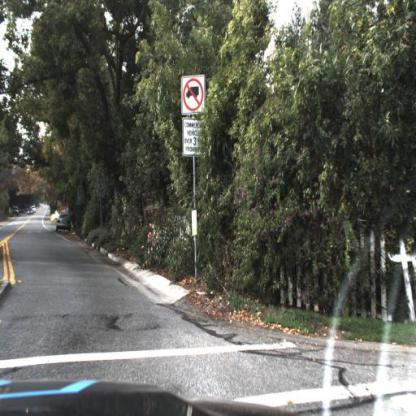car: (53, 208, 74, 236), (53, 208, 72, 236)
